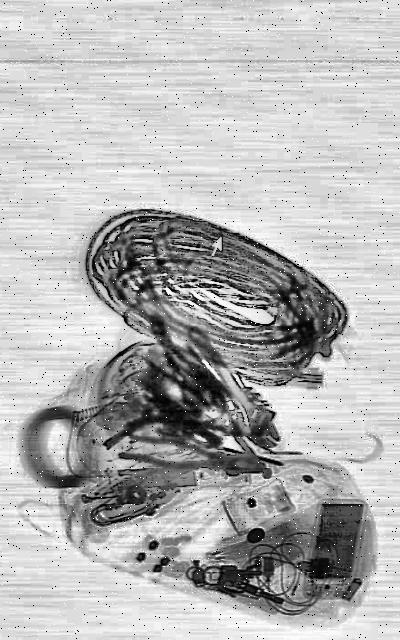Pliers: (118, 426, 268, 484)
Wrench: (181, 308, 289, 464)
